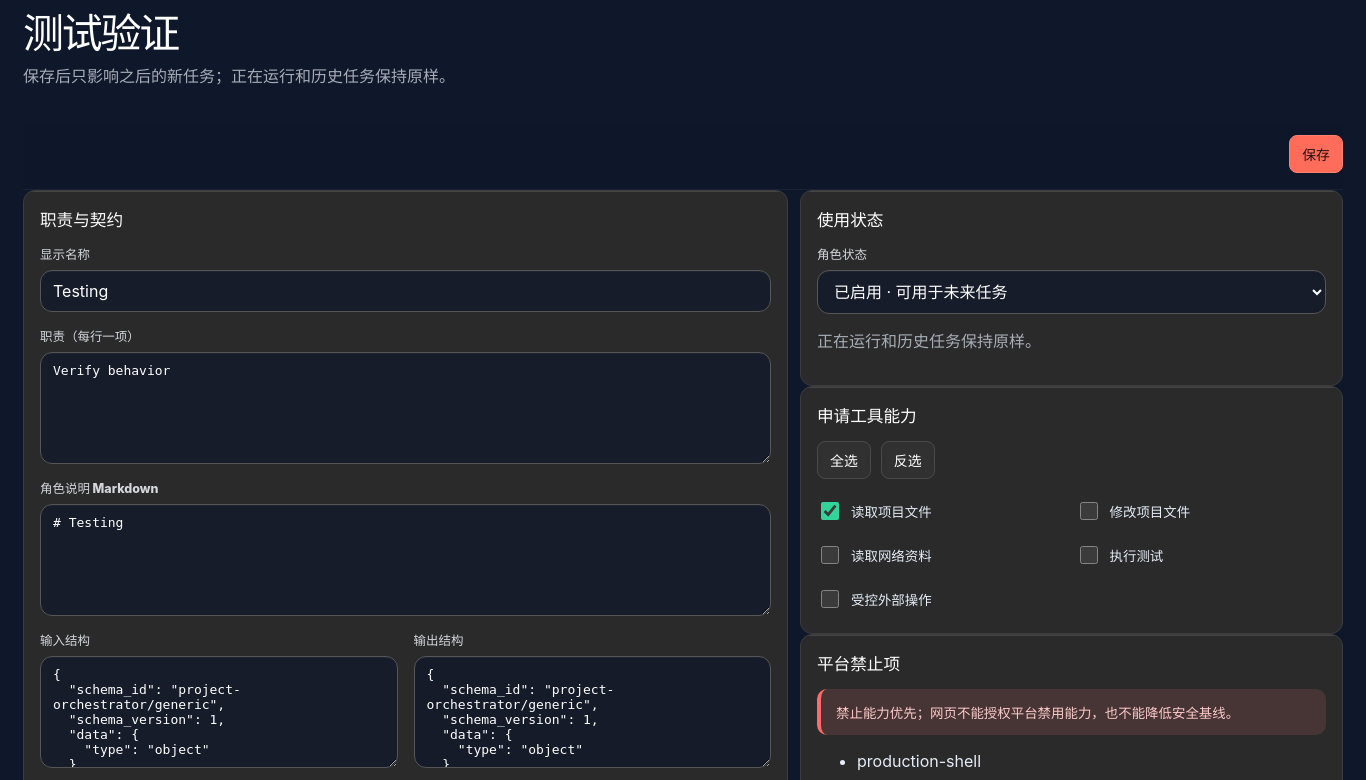
Test: saves role edits directly for future tasks without exposing versions or drafts
Replace the text in the field labelled "显示名称" with "Testing updated". click: (406,291)
box: x1=40 y1=270 x2=771 y2=312
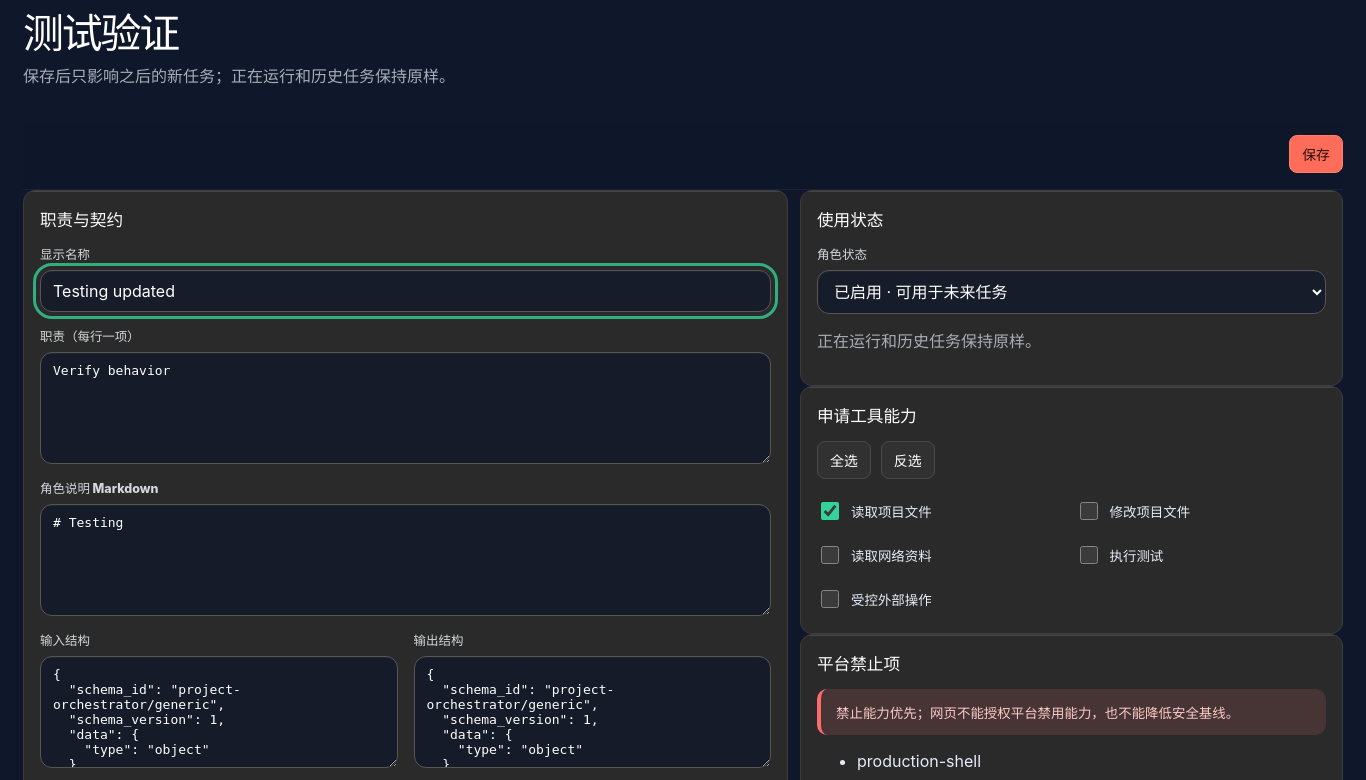
Click the button "保存". click: (1316,154)
box: x1=1289 y1=135 x2=1343 y2=173
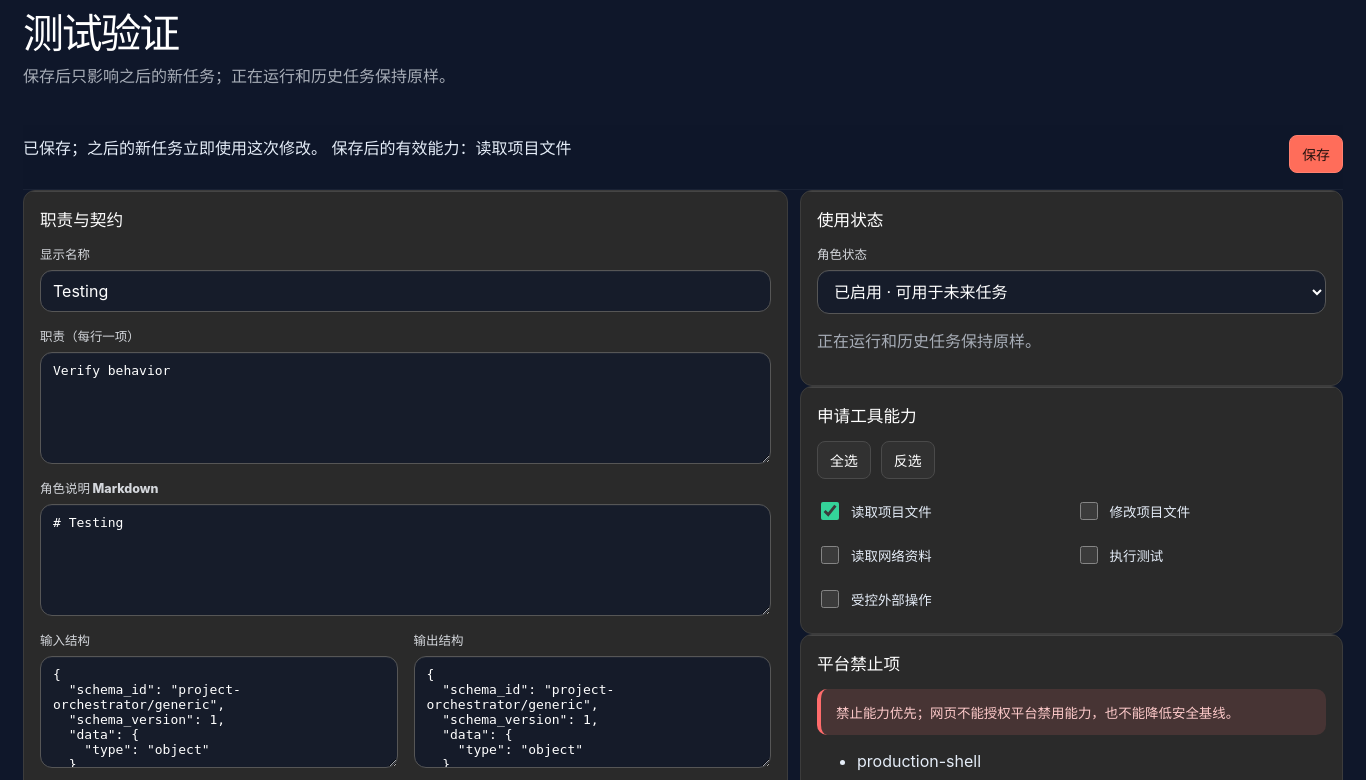
Check: the message shows "之后的新任务", box x1=23 y1=138 x2=572 y2=158
